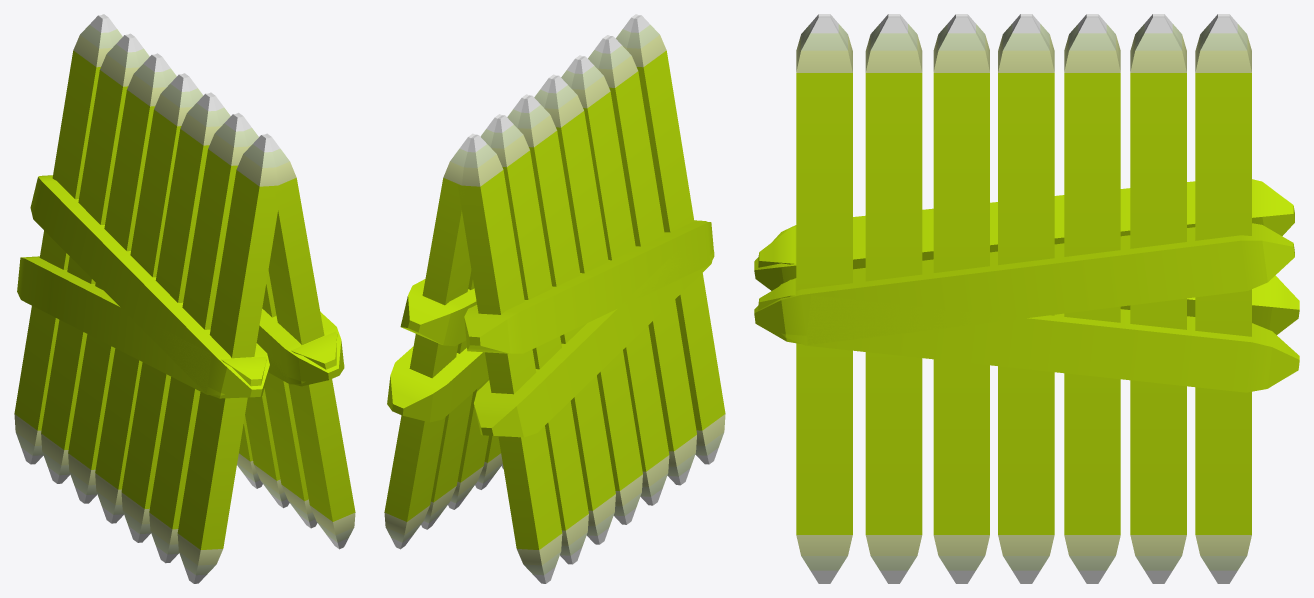
File: fencetype4.fbx
The picture shows the model from 3 angles, left to right: view 1: azimuth 30°, elevation 25°; view 2: azimuth 150°, elevation 25°; view 3: azimuth 270°, elevation 25°; orthographic projection. The views are drawn at different scales.
Visible parts, largest first — view 1: fence type 4.001; view 2: fence type 4.001; view 3: fence type 4.001.
Boxes of the visible parts, x1,y1,x2,y2 form: fence type 4.001: (14, 14, 355, 583); fence type 4.001: (384, 14, 725, 583); fence type 4.001: (754, 14, 1299, 583).
Size of the model in its own units: 1.22 by 3.21 by 3.02.
